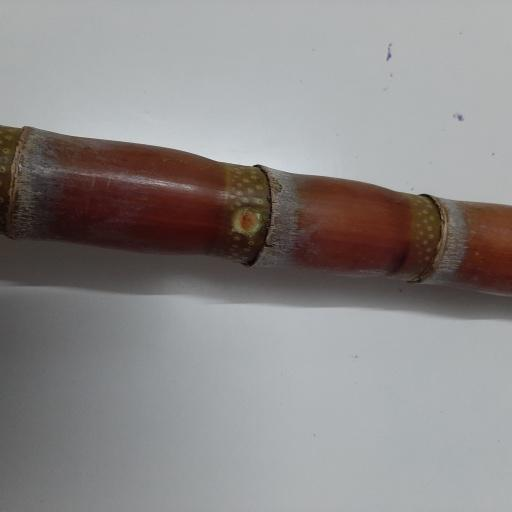Damage_Bud: (229, 203, 263, 236)
